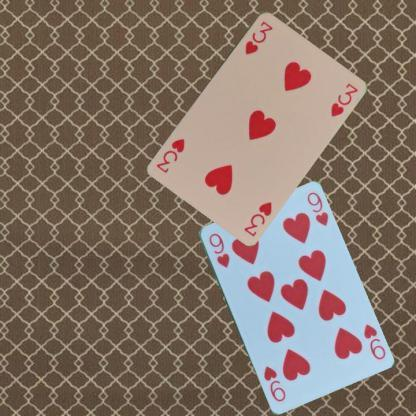3h: (240, 198, 274, 238), (242, 18, 274, 56)
9h: (360, 320, 386, 362), (206, 230, 230, 270)
